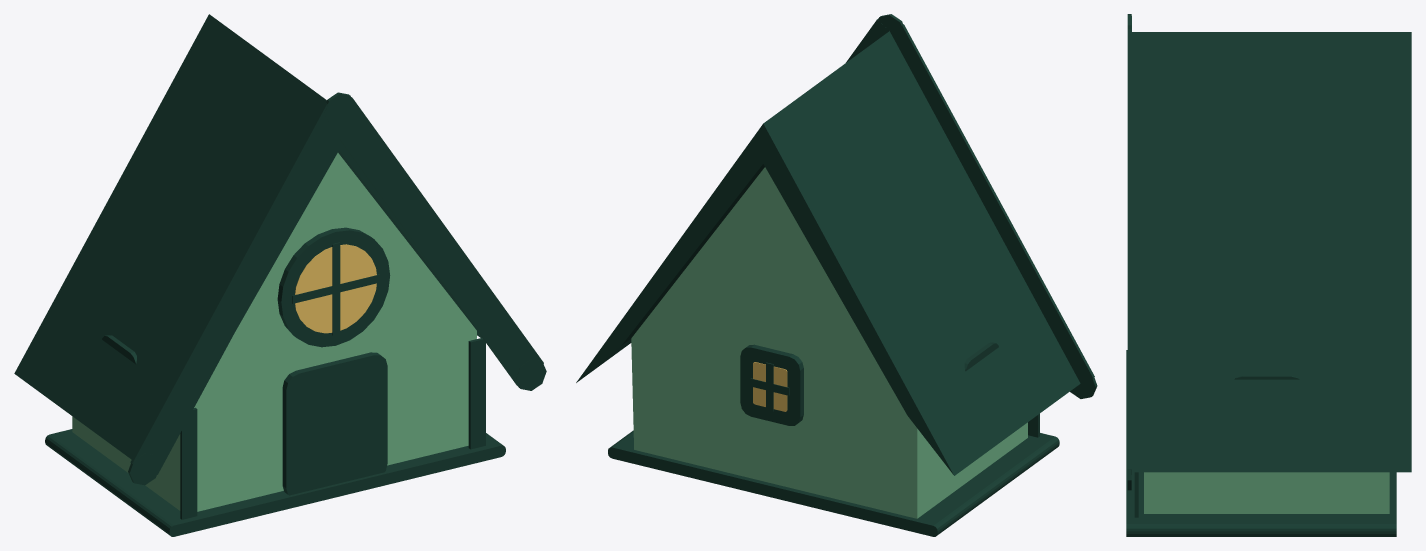
File: variant-04.glb
The picture shows the model from 3 angles, left to right: view 1: azimuth 30°, elevation 25°; view 2: azimuth 150°, elevation 25°; view 3: azimuth 270°, elevation 25°; orthographic projection. The views are drawn at different scales.
Parts seen in each view (by area): view 1: A-frame; view 2: A-frame; view 3: A-frame.
Part boxes in pixels (x1,y1,x2,y2): A-frame: (14,14,546,536); A-frame: (576,14,1097,536); A-frame: (1126,14,1411,536).
Bounding box in the file's own units: 1.09 × 1.01 × 0.5971.
